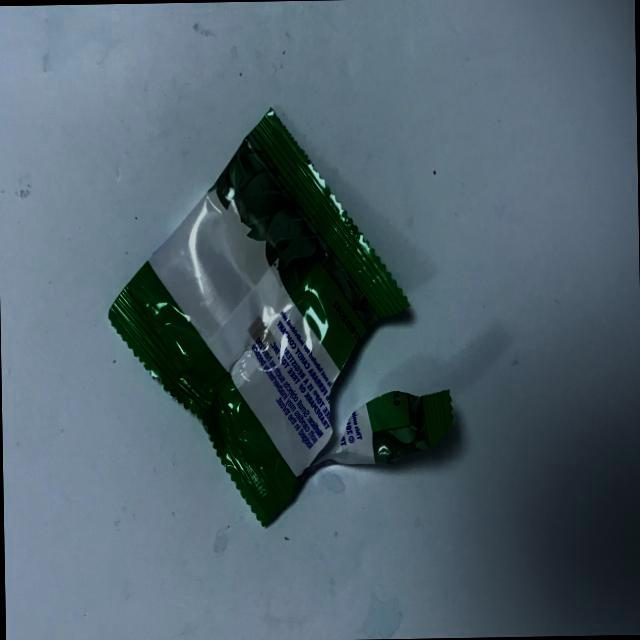plastic: (94, 88, 488, 553)
